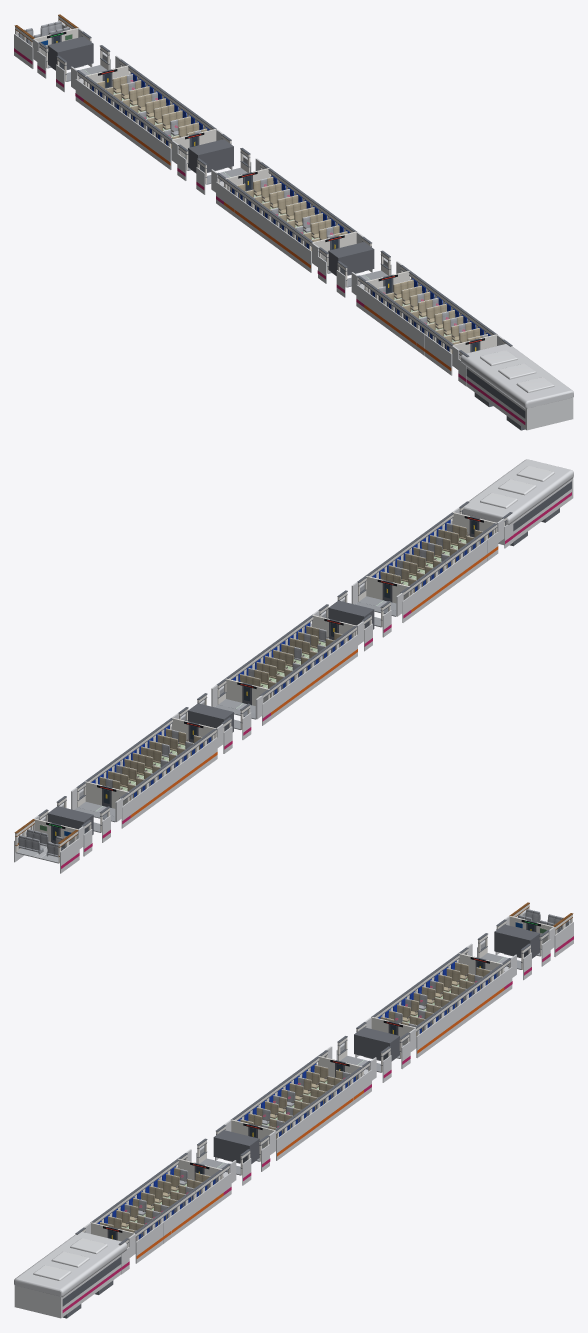
Rendered from car_ordinary.glb.
3 views of the same model, one above another, from view 1: azimuth 30°, elevation 25°; view 2: azimuth 150°, elevation 25°; view 3: azimuth 330°, elevation 25° (orthographic).
Visible parts, largest first — view 1: global_st_1, global_st_2, global_st_3, global_st_4, car_st_34, car_st_17, car_st_51, car_st_30, car_st_47; view 2: global_st_1, global_st_2, global_st_3, car_st_9, global_st_4, car_st_14, car_st_31, car_st_48, car_st_15, car_st_32, car_st_49, car_st_13 (+4 smaller); view 3: global_st_1, global_st_2, global_st_3, global_st_4, car_st_34, car_st_17, car_st_51, car_st_30, car_st_47.
Part boxes in pixels (x1,y1,x2,y2): global_st_1: (460,344,573,430); global_st_2: (328,242,374,275); global_st_3: (188,139,233,173); global_st_4: (47,36,93,70); car_st_34: (196,148,251,194); car_st_17: (336,250,391,297); car_st_51: (56,45,110,92); car_st_30: (312,231,356,259); car_st_47: (172,129,216,156); global_st_1: (462,459,573,546); global_st_2: (328,600,374,629); global_st_3: (188,703,233,732); car_st_9: (14,826,69,873); global_st_4: (47,806,93,834); car_st_14: (365,576,409,603); car_st_31: (225,678,269,705); car_st_48: (85,781,129,808); car_st_15: (357,576,411,622); car_st_32: (217,679,270,725); car_st_49: (76,781,130,828); car_st_13: (452,512,497,537); global_st_1: (14,1232,127,1318); global_st_2: (213,1130,259,1163); global_st_3: (354,1027,399,1061); global_st_4: (494,924,540,958); car_st_34: (336,1036,391,1082); car_st_17: (196,1138,251,1185); car_st_51: (477,933,531,980); car_st_30: (231,1119,275,1147); car_st_47: (371,1017,415,1044).
Size of the model in its own units: 3.56 by 2.65 by 64.11.
45 materials, 6 textured.
